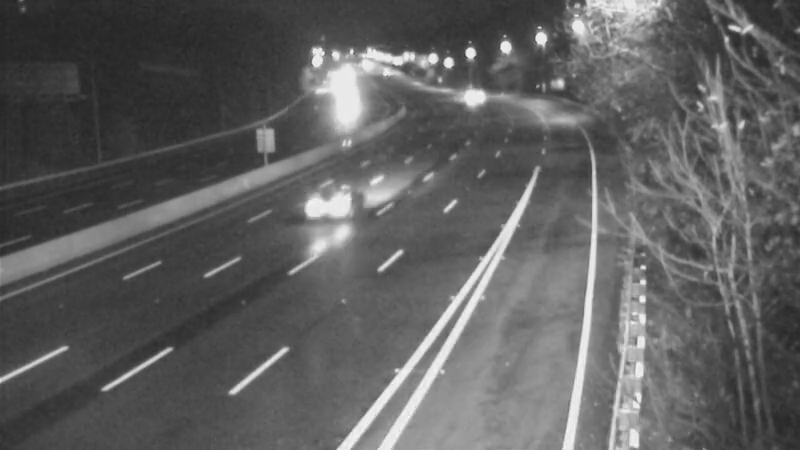vehicle: (286, 157, 366, 237), (445, 70, 495, 120), (316, 79, 366, 129)
